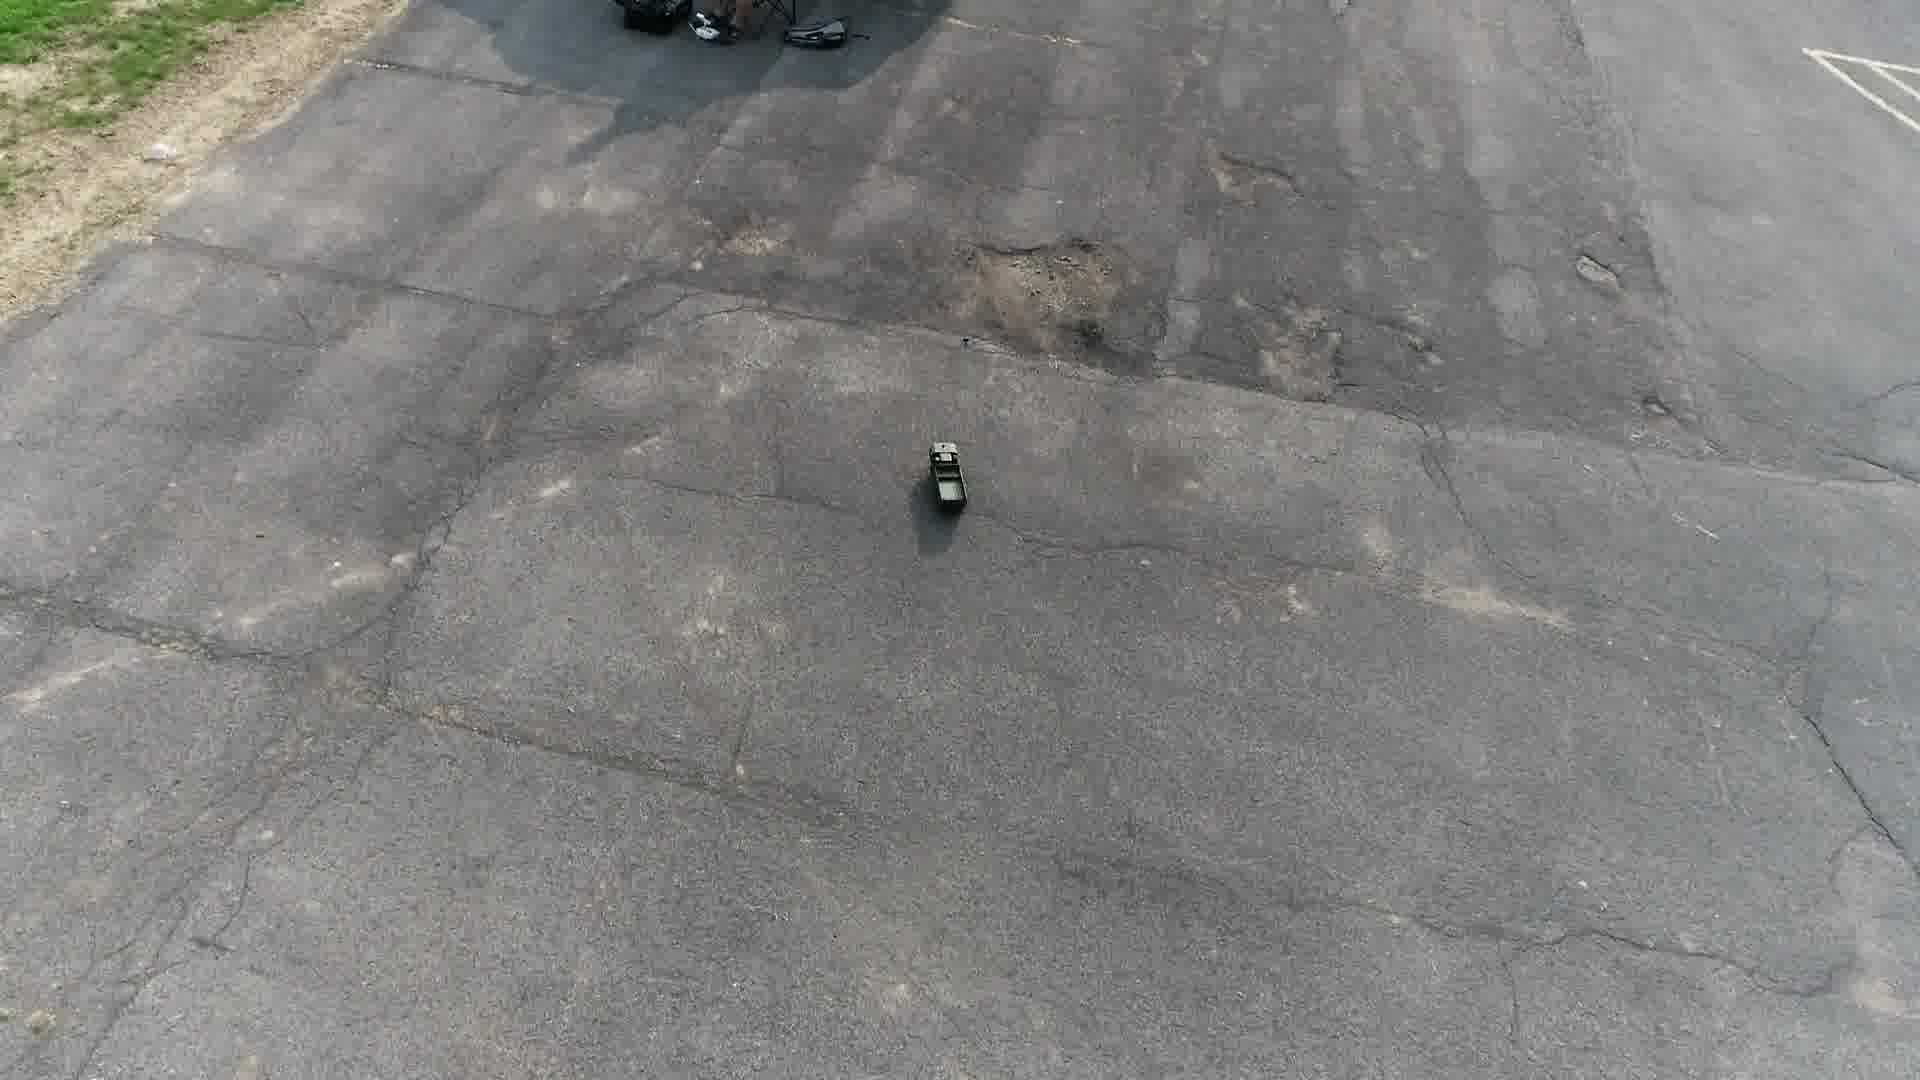transporter9: (920, 439, 975, 520)
